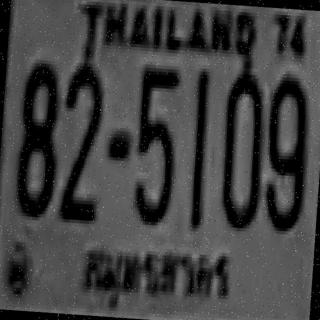N00: (216, 68, 266, 227)
N01: (186, 69, 210, 226)
N02: (57, 57, 103, 219)
N05: (130, 64, 180, 223)
N08: (12, 59, 60, 214)
N09: (261, 73, 310, 229)
P58: (77, 238, 234, 309)
